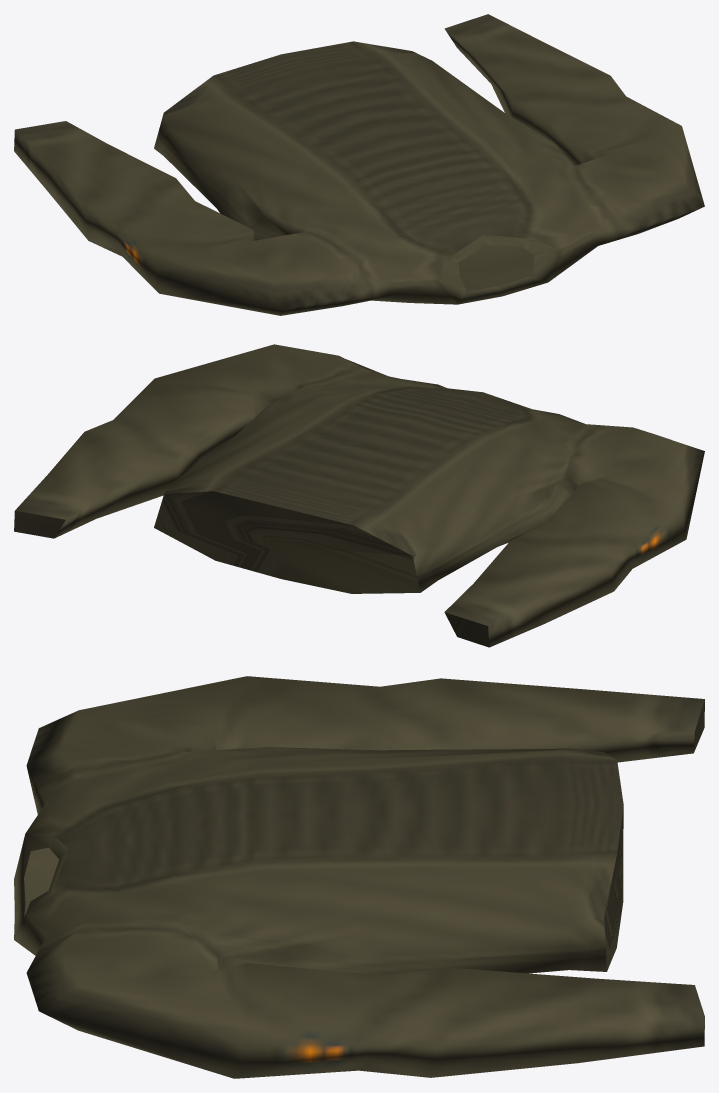
Rendered from SEVAShirtGround.fbx.
3 views of the same model, one above another, from view 1: azimuth 30°, elevation 25°; view 2: azimuth 150°, elevation 25°; view 3: azimuth 270°, elevation 25° (orthographic). The views are drawn at different scales.
Parts seen in each view (by area): view 1: PS5MJacketUP3; view 2: PS5MJacketUP3; view 3: PS5MJacketUP3.
Part boxes in pixels (x1=…): PS5MJacketUP3: x1=14, y1=14, x2=704, y2=315; PS5MJacketUP3: x1=14, y1=344, x2=704, y2=647; PS5MJacketUP3: x1=14, y1=676, x2=704, y2=1078.
Bounding box in the file's own units: 0.3467 × 0.0549 × 0.2862.
